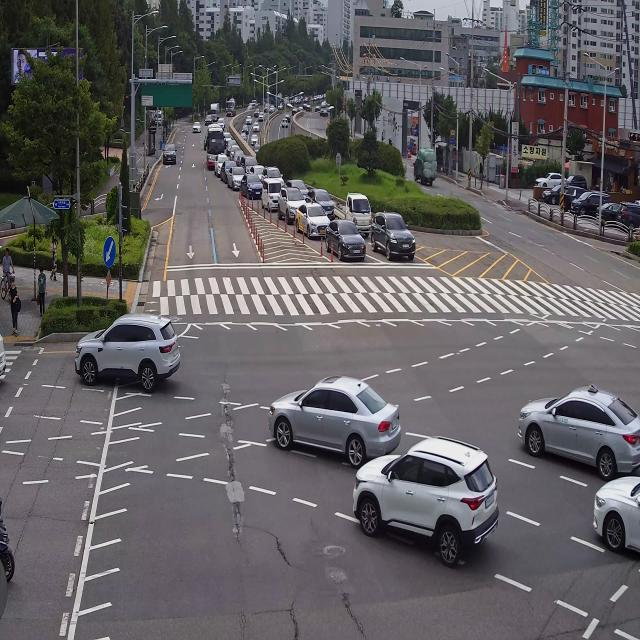Bus: (203, 123, 229, 172)
Car: (343, 426, 510, 565), (260, 357, 411, 473), (508, 349, 640, 470), (64, 306, 188, 407), (367, 211, 417, 267), (324, 215, 373, 268), (290, 194, 334, 246), (569, 190, 611, 218), (304, 187, 336, 220), (276, 182, 302, 222), (160, 138, 180, 179), (616, 198, 640, 232), (560, 184, 587, 214), (260, 177, 280, 217), (532, 166, 566, 188), (260, 163, 286, 191), (283, 176, 309, 201), (228, 164, 244, 197), (596, 199, 618, 223), (243, 170, 259, 201), (542, 183, 564, 205), (240, 151, 258, 175), (566, 172, 592, 188), (192, 115, 206, 144), (247, 162, 265, 181), (220, 158, 234, 182), (214, 153, 226, 175), (232, 149, 244, 165), (222, 130, 232, 147), (251, 120, 263, 134), (252, 140, 264, 154), (230, 145, 240, 160), (237, 154, 246, 170), (228, 138, 236, 156), (204, 112, 213, 126), (250, 132, 259, 144), (240, 132, 249, 143), (241, 123, 249, 135), (281, 117, 288, 130), (320, 109, 328, 120), (258, 112, 266, 122), (245, 114, 252, 125), (218, 119, 224, 130), (254, 107, 260, 118), (220, 116, 226, 126), (263, 102, 269, 112), (269, 104, 275, 114), (306, 104, 313, 112), (314, 104, 321, 112), (249, 102, 255, 110), (285, 113, 291, 121), (291, 108, 297, 116), (297, 106, 304, 112), (278, 102, 282, 112), (244, 107, 250, 113), (303, 103, 307, 108)
Motorcycle: (0, 481, 18, 591), (0, 241, 18, 307)
Truck: (411, 138, 445, 193), (334, 191, 370, 230), (225, 97, 238, 117), (207, 102, 220, 121), (252, 98, 260, 108)
